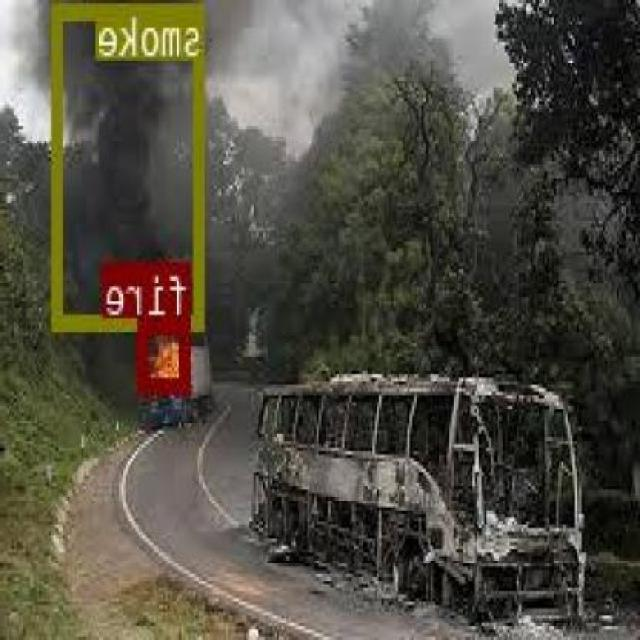Fire: (140, 318, 193, 392)
Smoke: (56, 2, 207, 328)
